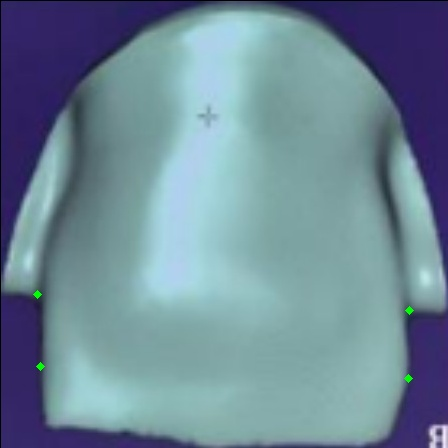coin_1: (409, 310, 429, 330)
coin_2: (408, 378, 428, 398)
coin_3: (37, 294, 57, 314)
coin_4: (40, 366, 60, 386)
